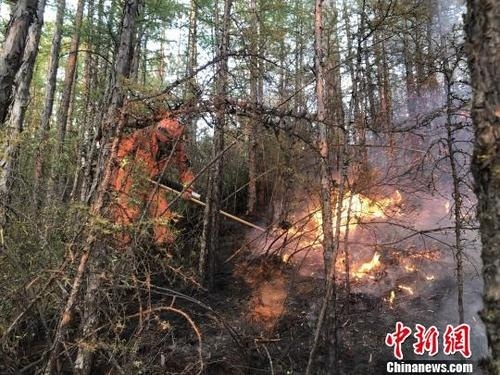fire: (303, 184, 399, 277)
